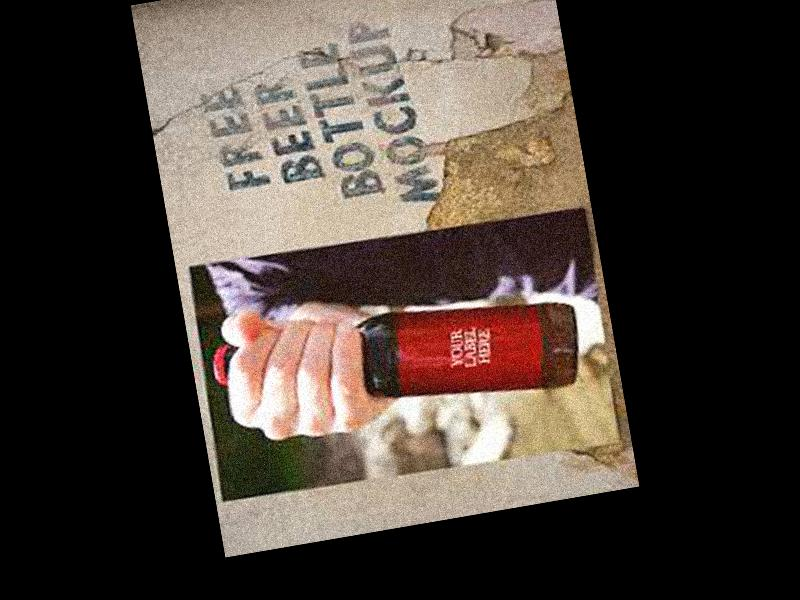Beer: (210, 285, 587, 445)
